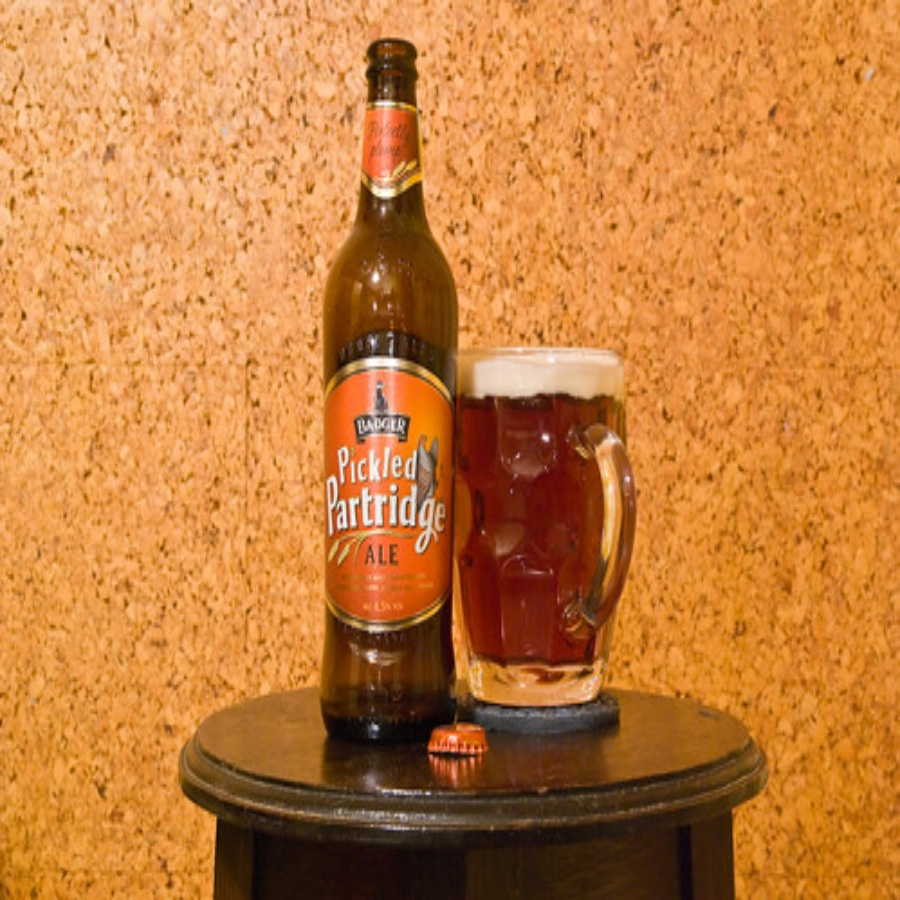beer: (320, 33, 470, 752)
